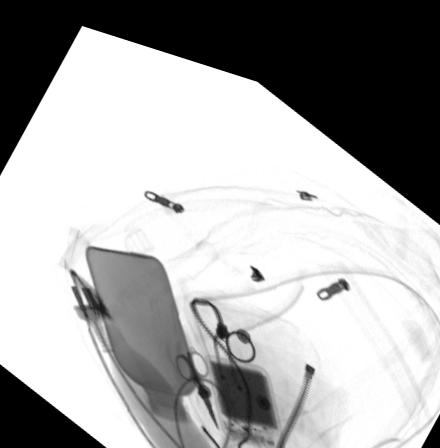Powerbank: (206, 343, 283, 432)
Scissors: (172, 337, 220, 419)
